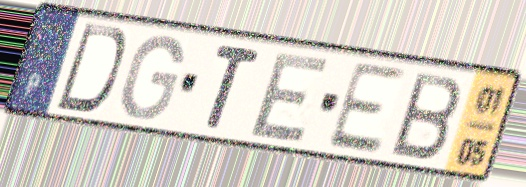B: (388, 68, 465, 163)
D: (51, 20, 130, 116)
E: (322, 58, 408, 157), (245, 50, 335, 144)
G: (118, 33, 186, 122)
T: (203, 40, 264, 134)
